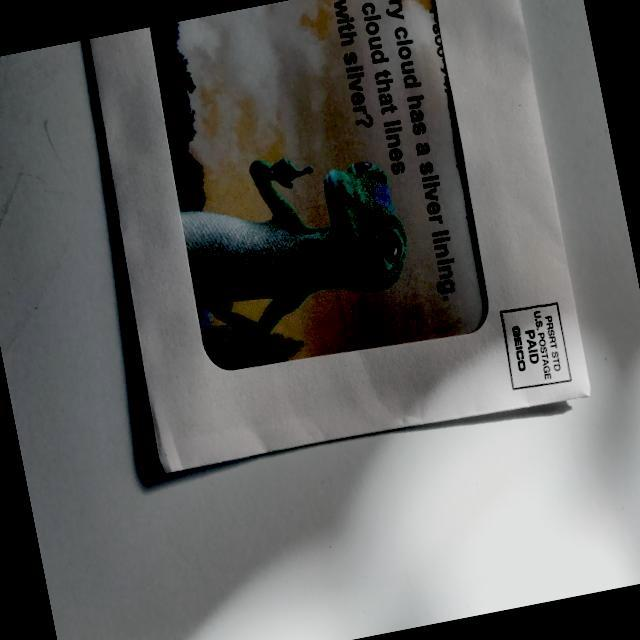paper: (70, 0, 596, 488)
